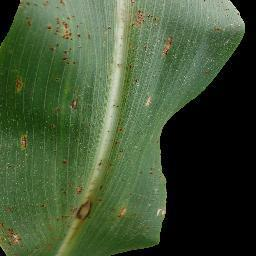Corn_Common_Rust: (15, 2, 102, 74), (110, 1, 176, 63), (42, 179, 99, 239), (17, 113, 72, 175), (200, 0, 245, 57), (0, 194, 41, 256), (115, 72, 155, 131), (51, 79, 91, 120), (134, 152, 176, 190), (104, 201, 139, 240), (4, 70, 36, 112), (151, 204, 181, 234), (92, 137, 118, 169)
